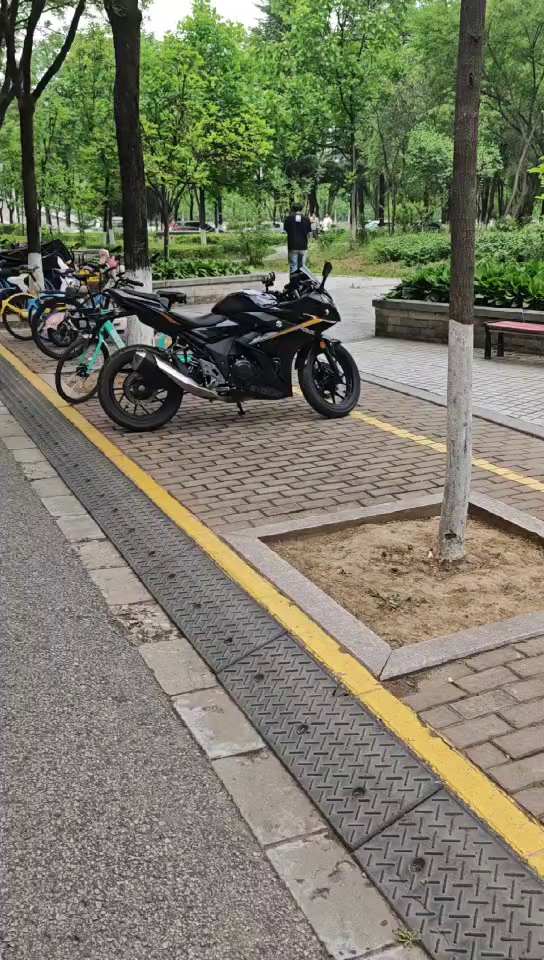others: (110, 274, 368, 428)
shared_bike_qingcong: (62, 286, 204, 404)
